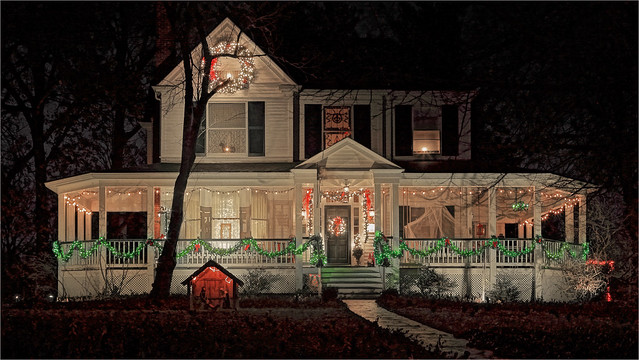high: (41, 15, 606, 308)
